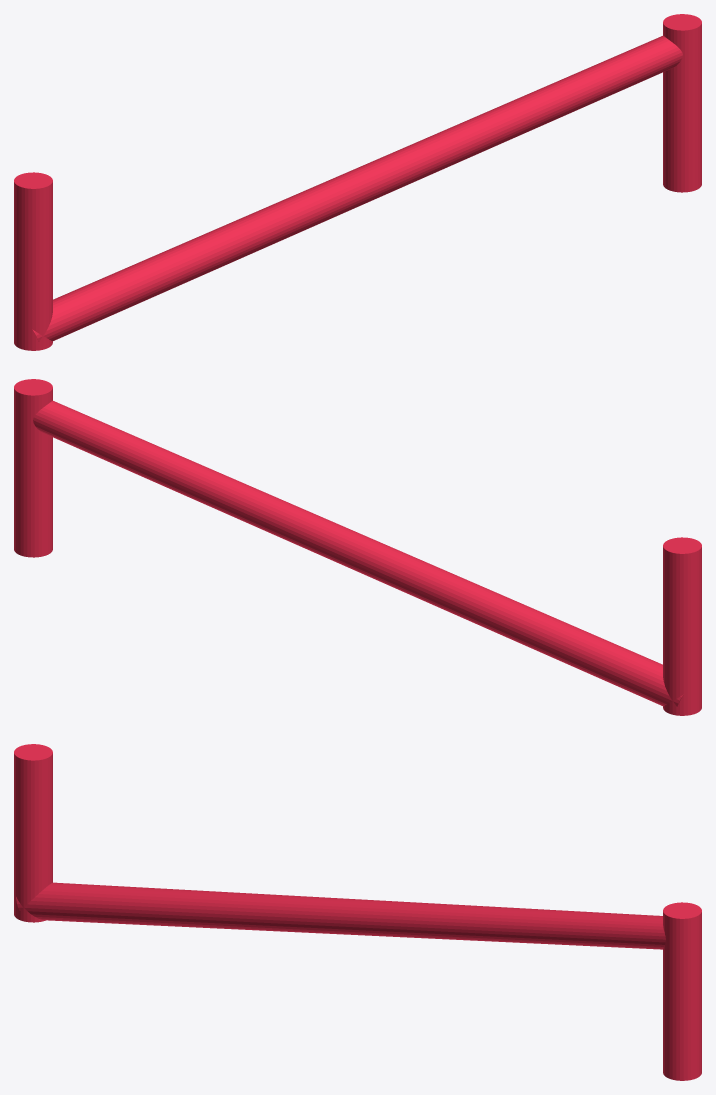
The model's file is BarObstacle3.fbx.
The picture shows the model from 3 angles, top to bottom: view 1: azimuth 30°, elevation 25°; view 2: azimuth 150°, elevation 25°; view 3: azimuth 330°, elevation 25°; orthographic projection.
Parts seen in each view (by area): view 1: Cylinder.011; view 2: Cylinder.011; view 3: Cylinder.011.
Boxes of the visible parts, <box> form: Cylinder.011: <box>14,14,701,350</box>; Cylinder.011: <box>14,379,701,715</box>; Cylinder.011: <box>14,744,701,1080</box>.
Size of the model in its own units: 236 by 54.67 by 11.66.
Materials: 1 (1 with a texture image).
